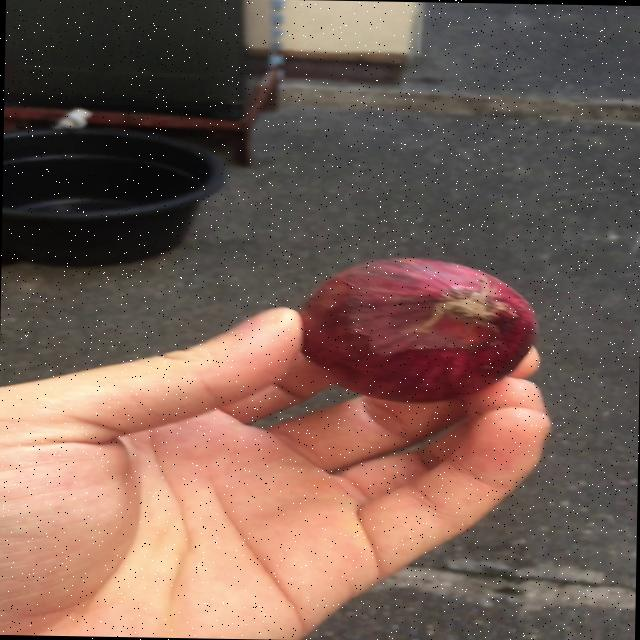Onion: (301, 258, 536, 402)
